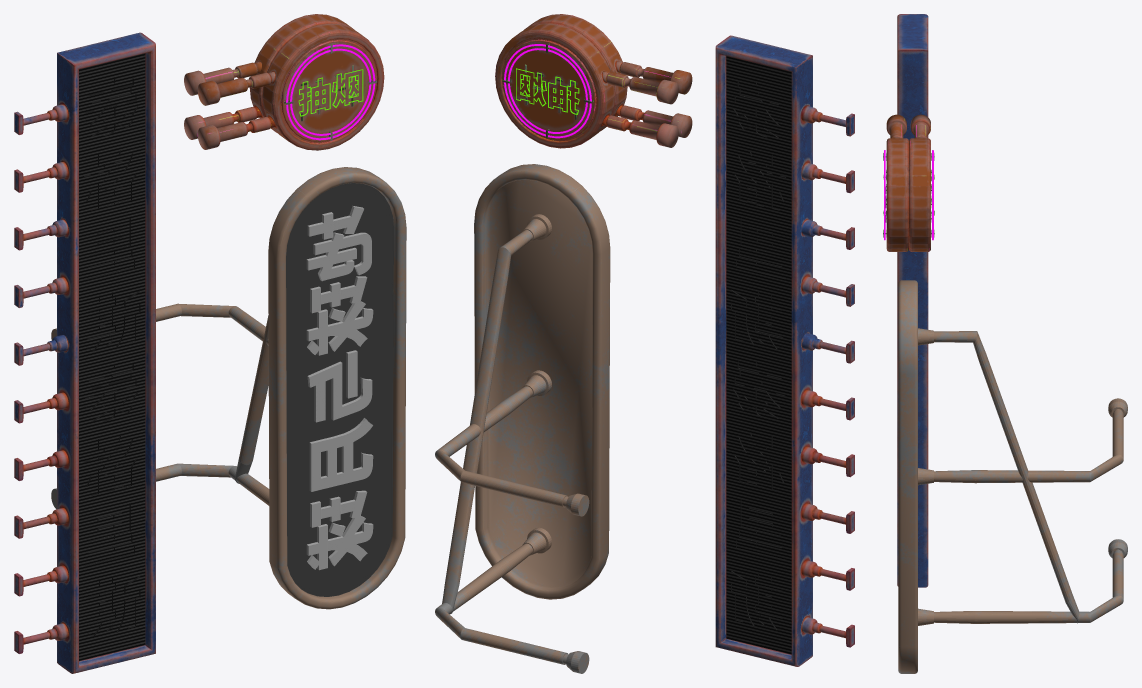
The model's file is neon_signs (1).glb.
The picture shows the model from 3 angles, left to right: view 1: azimuth 30°, elevation 25°; view 2: azimuth 150°, elevation 25°; view 3: azimuth 270°, elevation 25°; orthographic projection. The views are drawn at different scales.
Parts seen in each view (by area): view 1: neon_2_1, neon_1_0, neon_3_2; view 2: neon_2_1, neon_1_0, neon_3_2; view 3: neon_1_0, neon_2_1, neon_3_2.
Part boxes in pixels (x1=…): neon_2_1: x1=14, y1=32, x2=155, y2=673; neon_1_0: x1=51, y1=167, x2=406, y2=609; neon_3_2: x1=184, y1=14, x2=384, y2=150; neon_2_1: x1=715, y1=35, x2=854, y2=666; neon_1_0: x1=435, y1=164, x2=610, y2=673; neon_3_2: x1=495, y1=14, x2=692, y2=148; neon_1_0: x1=898, y1=280, x2=1127, y2=673; neon_2_1: x1=897, y1=14, x2=928, y2=587; neon_3_2: x1=883, y1=114, x2=934, y2=251.
Bounding box in the file's own units: 2.6 × 3.97 × 1.64.
Materials: 3 (3 with a texture image).
